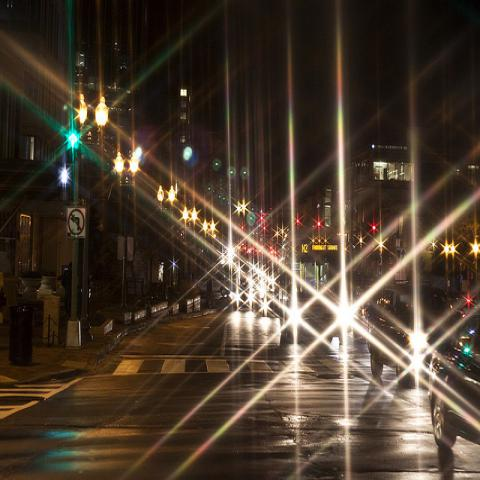bus: (277, 240, 339, 336)
car: (367, 287, 461, 401), (428, 308, 480, 450), (278, 278, 347, 354), (352, 289, 382, 339), (252, 291, 281, 319), (194, 273, 229, 296)
